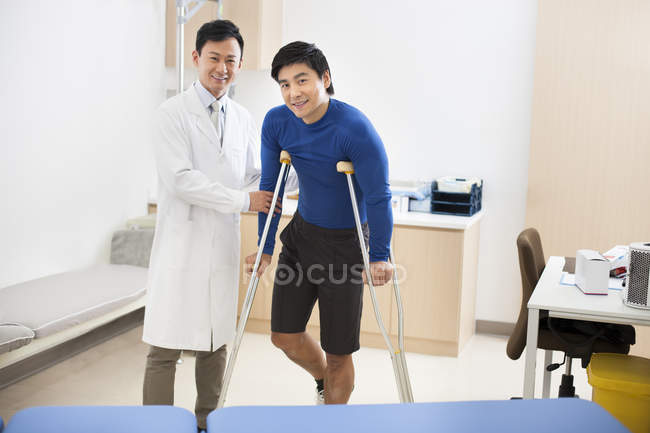crutches: (215, 41, 416, 406)
